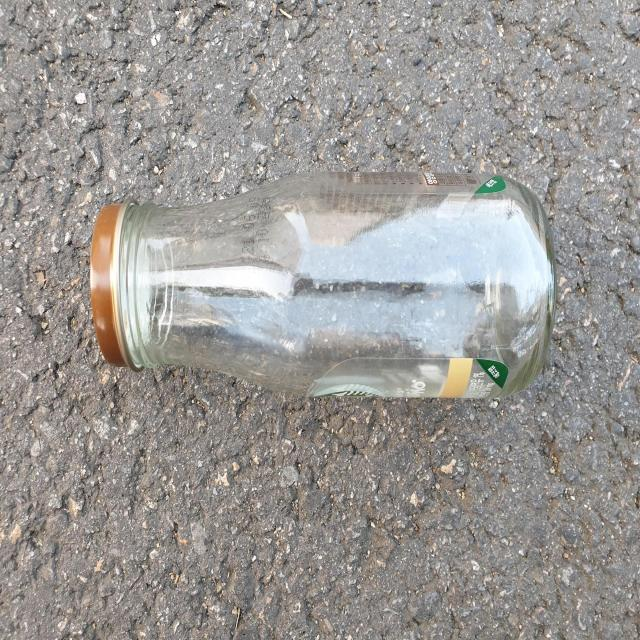glass: (90, 171, 556, 399)
